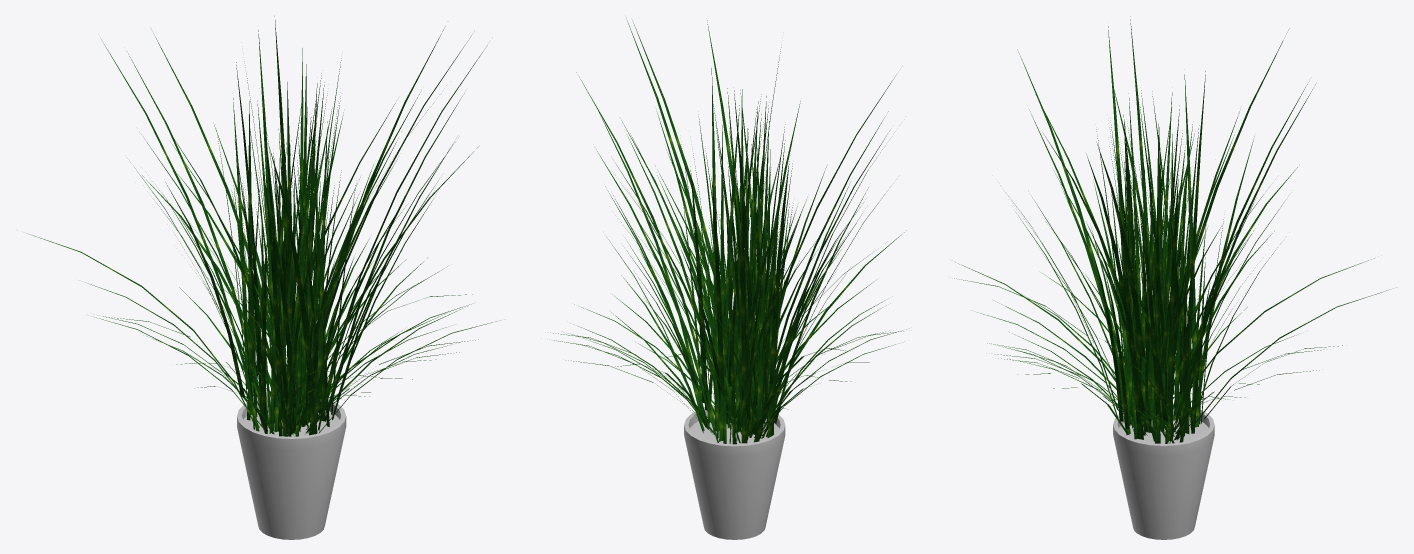
The model's file is Plant.FBX.
3 renders of one model, left to right at view 1: azimuth 30°, elevation 25°; view 2: azimuth 150°, elevation 25°; view 3: azimuth 270°, elevation 25°, orthographic. The views are drawn at different scales.
Visible parts, largest first — view 1: Plant; view 2: Plant; view 3: Plant.
Part boxes in pixels (bbox=[...]): Plant: bbox=[27, 16, 500, 539]; Plant: bbox=[550, 20, 906, 539]; Plant: bbox=[954, 16, 1389, 539].
Size of the model in its own units: 256 by 346 by 287.
